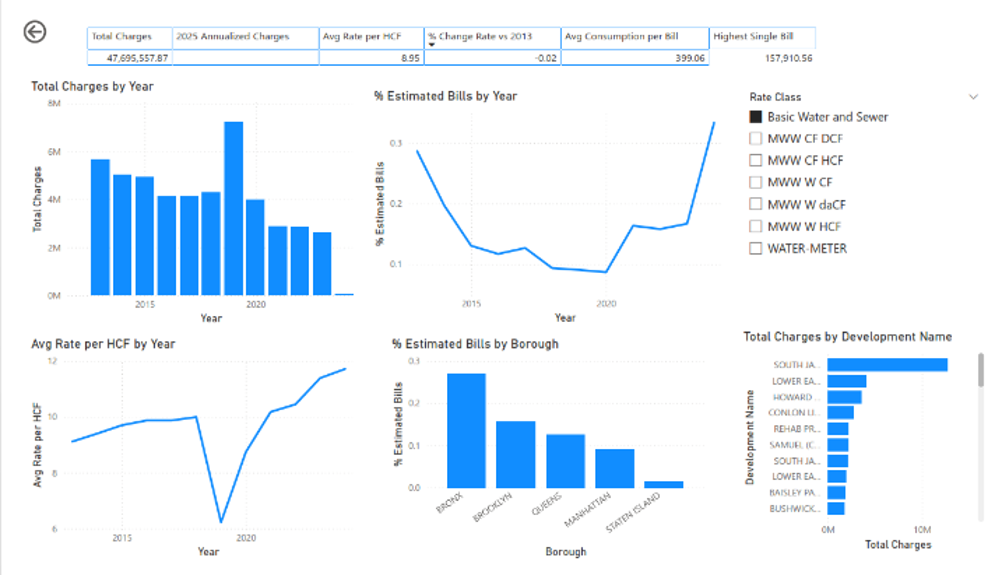

The page's visual inventory and layout, read from the dashboard file:
{"tool":"powerbi","page":{"name":"Descriptive analysis","canvas":[1280,720],"ordinal":0},"visuals":[{"type":"clusteredColumnChart","fields":{"Y":["Cleaned data.Total Charges"],"Category":["Cleaned data.Revenue Month.Variation.Date Hierarchy.Year"]},"box":[10,81.7,438.3,330],"z":0},{"type":"lineChart","fields":{"Category":["Cleaned data.Revenue Month.Variation.Date Hierarchy.Year"],"Y":["Cleaned data.Avg Rate per HCF"]},"box":[10,422,438,298],"z":1000},{"type":"lineChart","fields":{"Y":["Cleaned data.% Estimated Bills"],"Category":["Cleaned data.Revenue Month.Variation.Date Hierarchy.Year"]},"box":[628.3,88.3,473.3,316.7],"z":2000},{"type":"clusteredColumnChart","fields":{"Y":["Cleaned data.% Estimated Bills"],"Category":["Cleaned data.Borough"]},"box":[486.7,421.7,423.3,298.3],"z":3000},{"type":"barChart","fields":{"Y":["Cleaned data.Total Charges"],"Category":["Cleaned data.Development Name"]},"box":[951.7,411.7,328.3,298.3],"z":4000},{"type":"tableEx","fields":{"Values":["Cleaned data.Total Charges","Cleaned data.2025 Annualized Charges","Cleaned data.Avg Rate per HCF","Cleaned data.% Change Rate vs 2013","Cleaned data.Avg Consumption per Bill","Cleaned data.Highest Single Bill"]},"box":[84.3,10,985.7,60],"z":5000},{"type":"actionButton","box":[0,0,100,40],"z":6000}]}

Visuals, with their boxes in screenshot pixels (x1, y1, x2, y2), scaled from the page's 1280x720 canvas onto the 1002x576 screenshot:
clusteredColumnChart - Cleaned data.Total Charges x Cleaned data.Revenue Month.Variation.Date Hierarchy.Year: l=8, t=65, r=351, b=329
lineChart - Cleaned data.Revenue Month.Variation.Date Hierarchy.Year x Cleaned data.Avg Rate per HCF: l=8, t=338, r=351, b=575
lineChart - Cleaned data.% Estimated Bills x Cleaned data.Revenue Month.Variation.Date Hierarchy.Year: l=492, t=71, r=862, b=324
clusteredColumnChart - Cleaned data.% Estimated Bills x Cleaned data.Borough: l=381, t=337, r=712, b=575
barChart - Cleaned data.Total Charges x Cleaned data.Development Name: l=745, t=329, r=1001, b=568
tableEx - Cleaned data.Total Charges x Cleaned data.2025 Annualized Charges: l=66, t=8, r=838, b=56
actionButton: l=0, t=0, r=78, b=32
